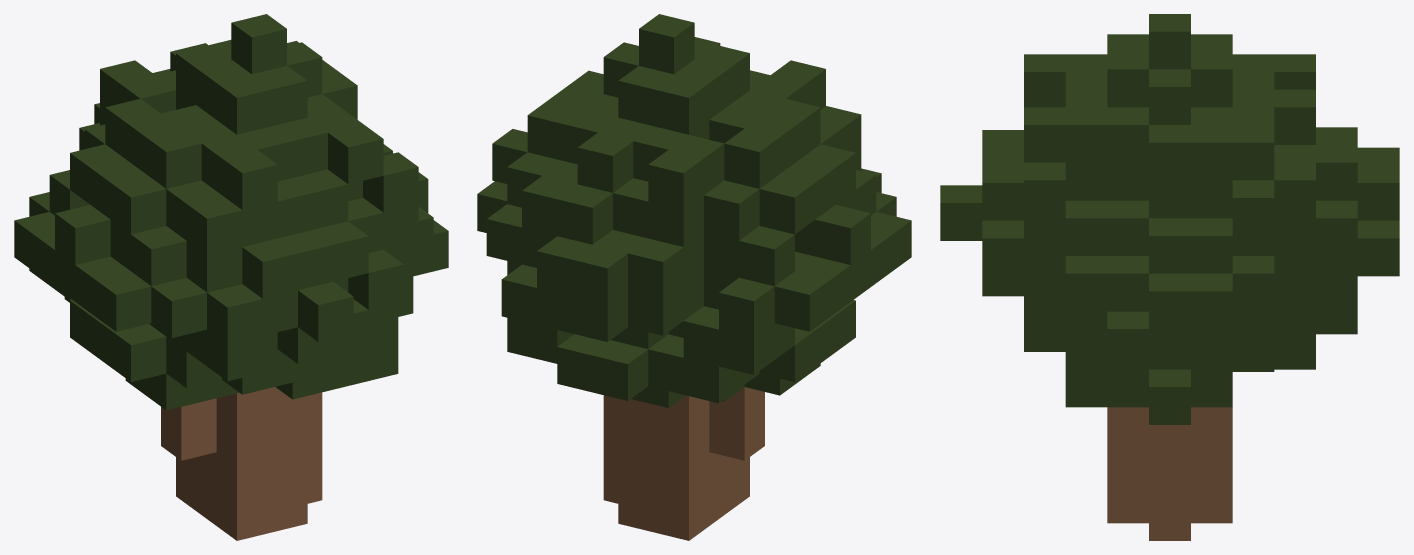
File: Arbol4.obj
3 views of the same model, side by side, from view 1: azimuth 30°, elevation 25°; view 2: azimuth 150°, elevation 25°; view 3: azimuth 270°, elevation 25° (orthographic). The views are drawn at different scales.
Size of the model in its own units: 10 by 13 by 11.
1 material, 1 textured.
